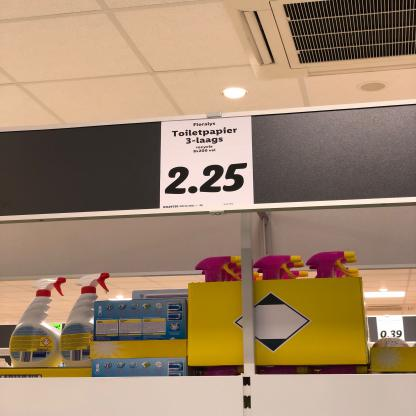prtg: (161, 117, 255, 209), (377, 318, 406, 342)
